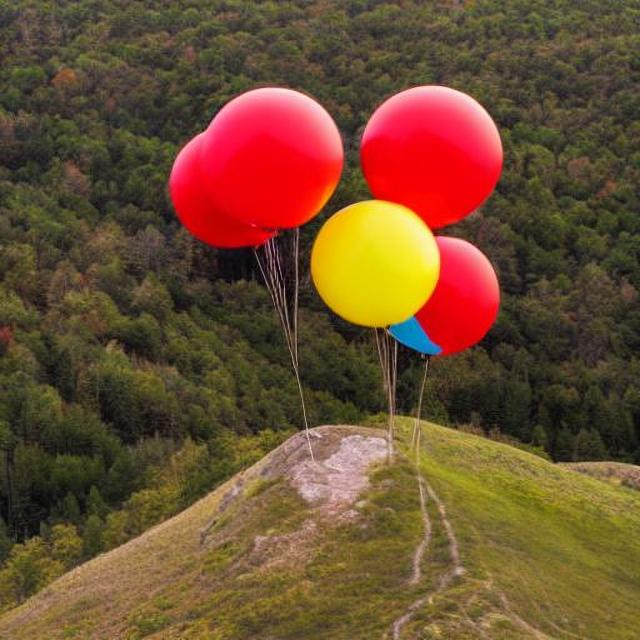balloon: (162, 87, 340, 255), (320, 195, 446, 342), (353, 83, 502, 202), (426, 226, 497, 357)
